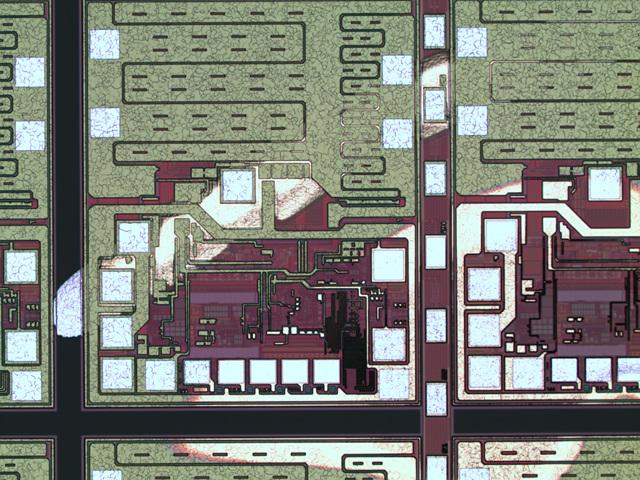COATING BAD: (42, 41, 640, 480)
